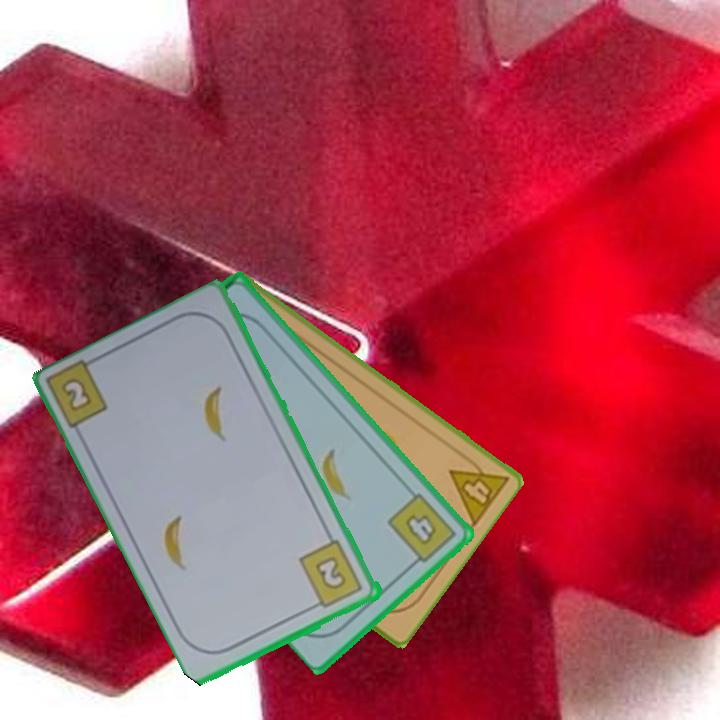2b: (296, 537, 367, 612), (58, 374, 95, 415)
4b: (383, 488, 460, 570)
4p: (445, 447, 512, 529)
